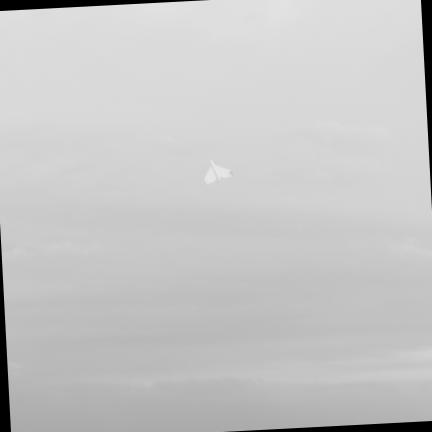Shahed: (203, 158, 235, 186)
